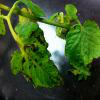Tomato leaf bacterial spot: (6, 21, 64, 88), (63, 20, 99, 83)
